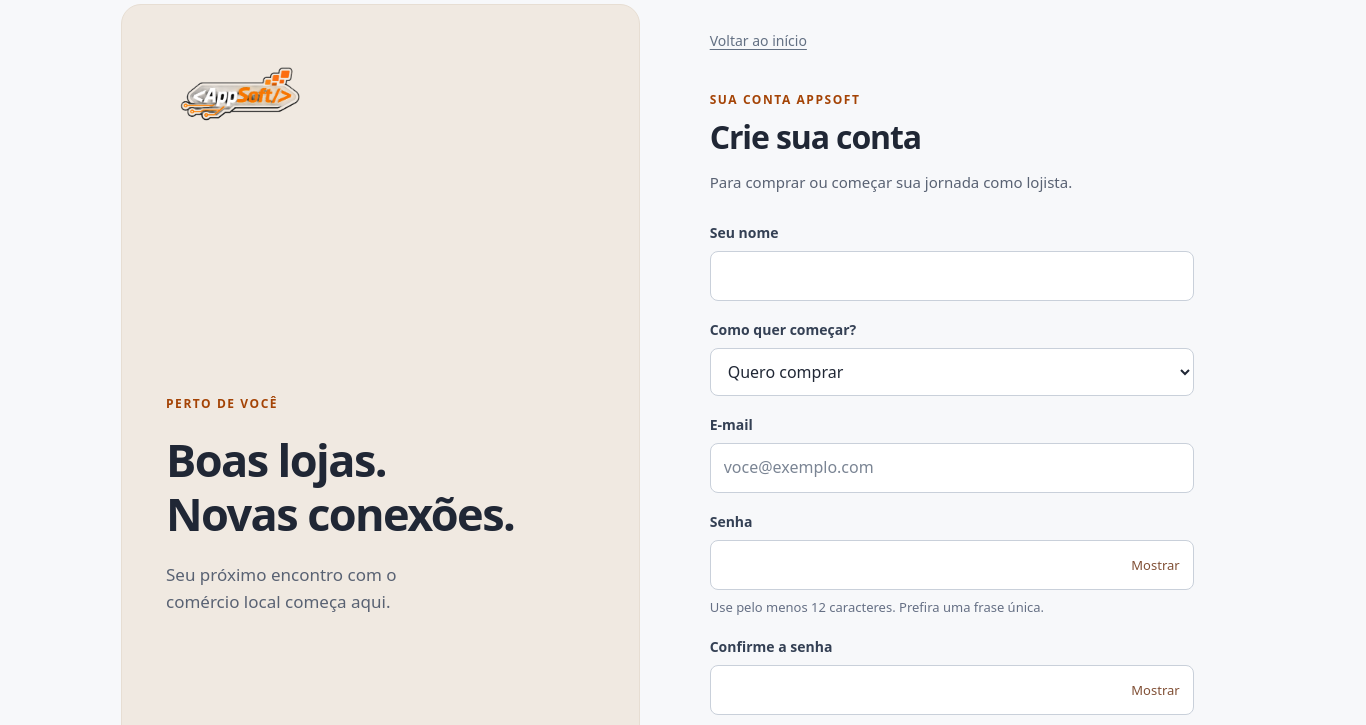
Test case: cadastro e login › cadastra lojista como preferência, sem conceder role de autorização
The image size is (1366, 725).
In the field labelled "Seu nome": (952, 276) [710,251,1194,301], type "Ana"
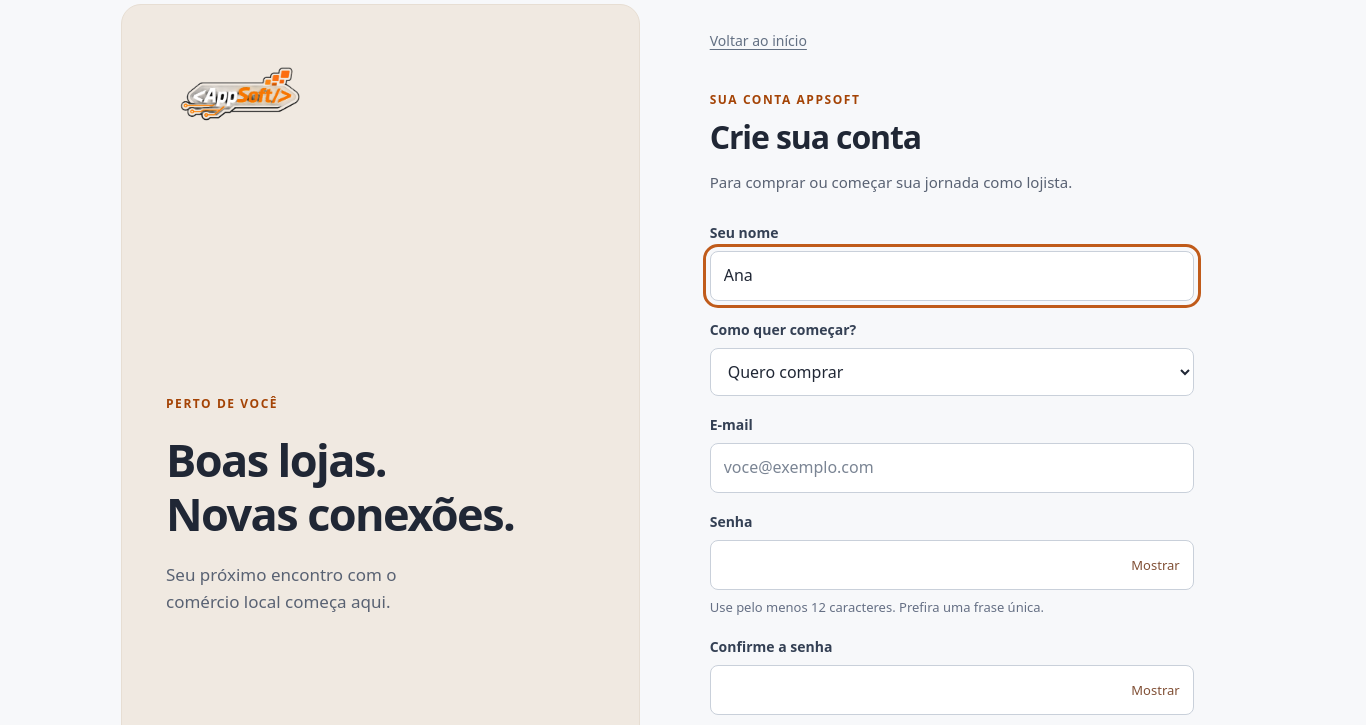
In the field labelled "E-mail": (952, 468) [710,443,1194,493], type "ana@example.test"
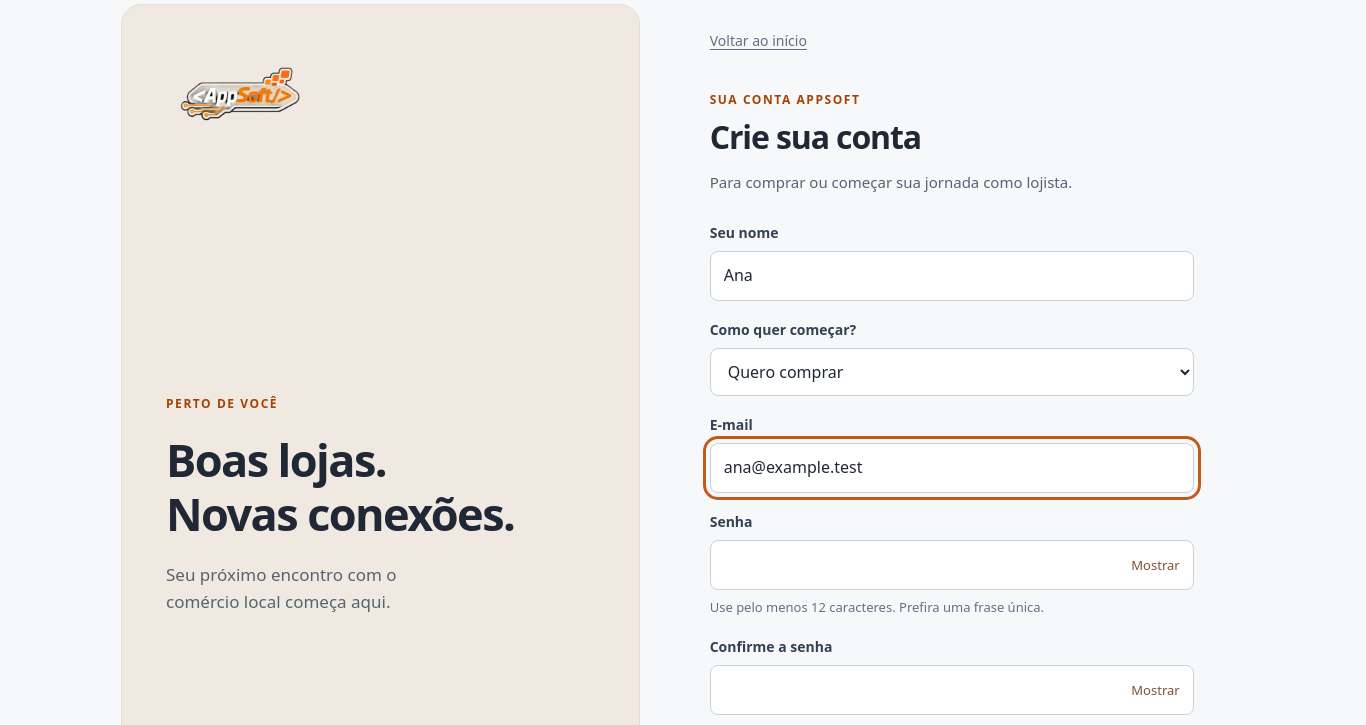
Select "Quero vender" in the dropdown labelled "Como quer começar?": (952, 372) [710,348,1194,396]
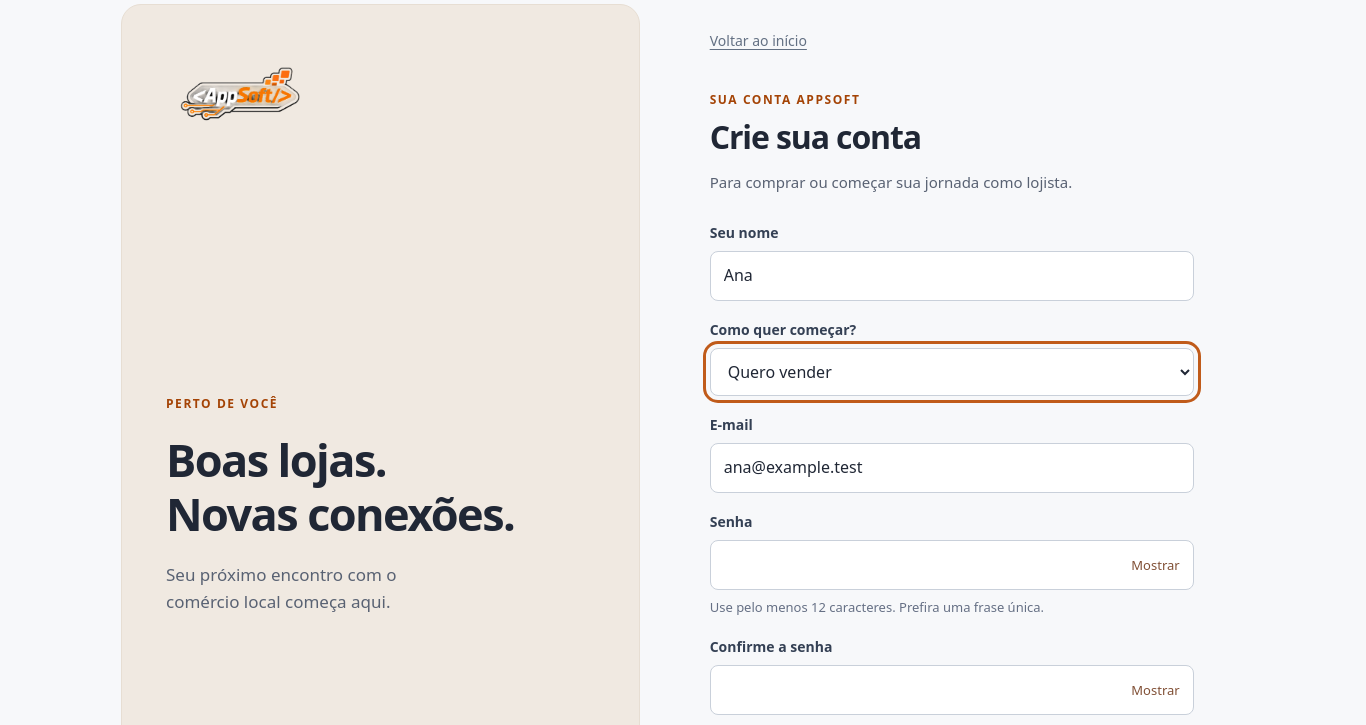
In the password field labelled "Senha": (952, 565) [710,540,1194,590], type "minha-senha-segura"
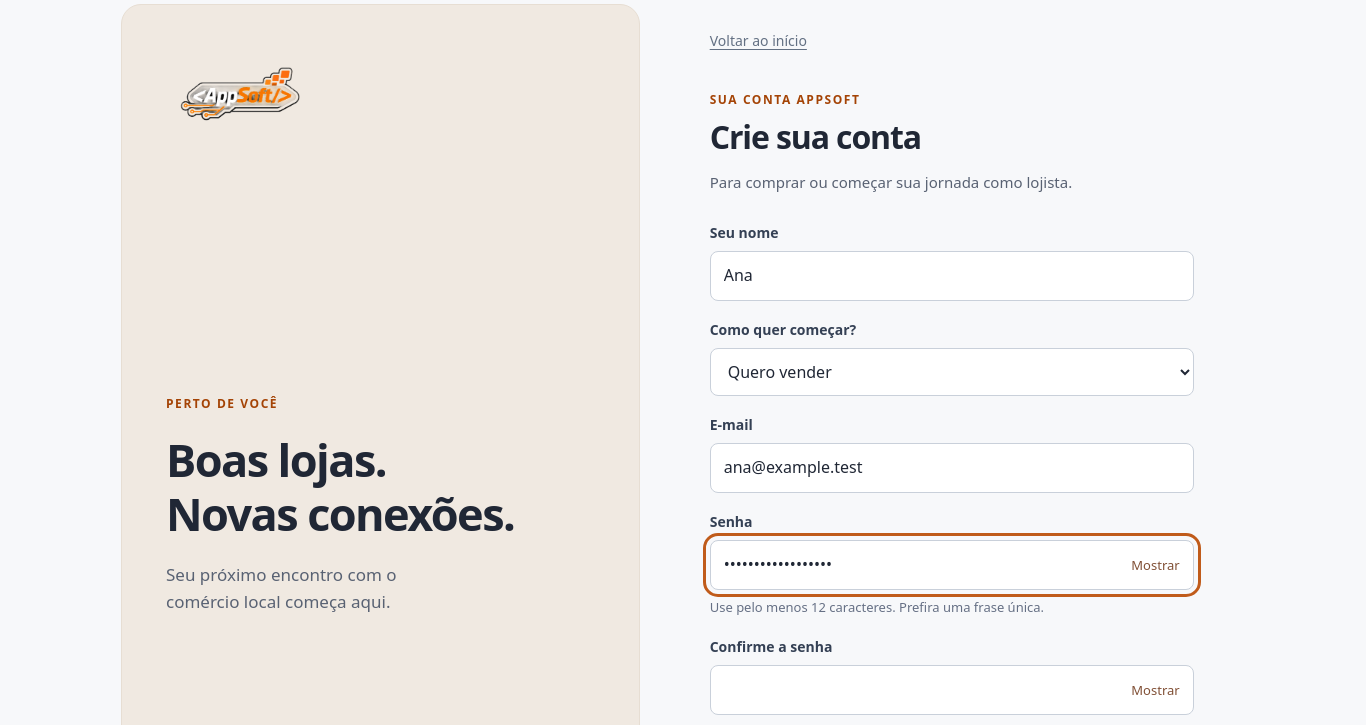
In the password field labelled "Confirme a senha": (952, 690) [710,665,1194,715], type "minha-senha-segura"
(page scrolled)
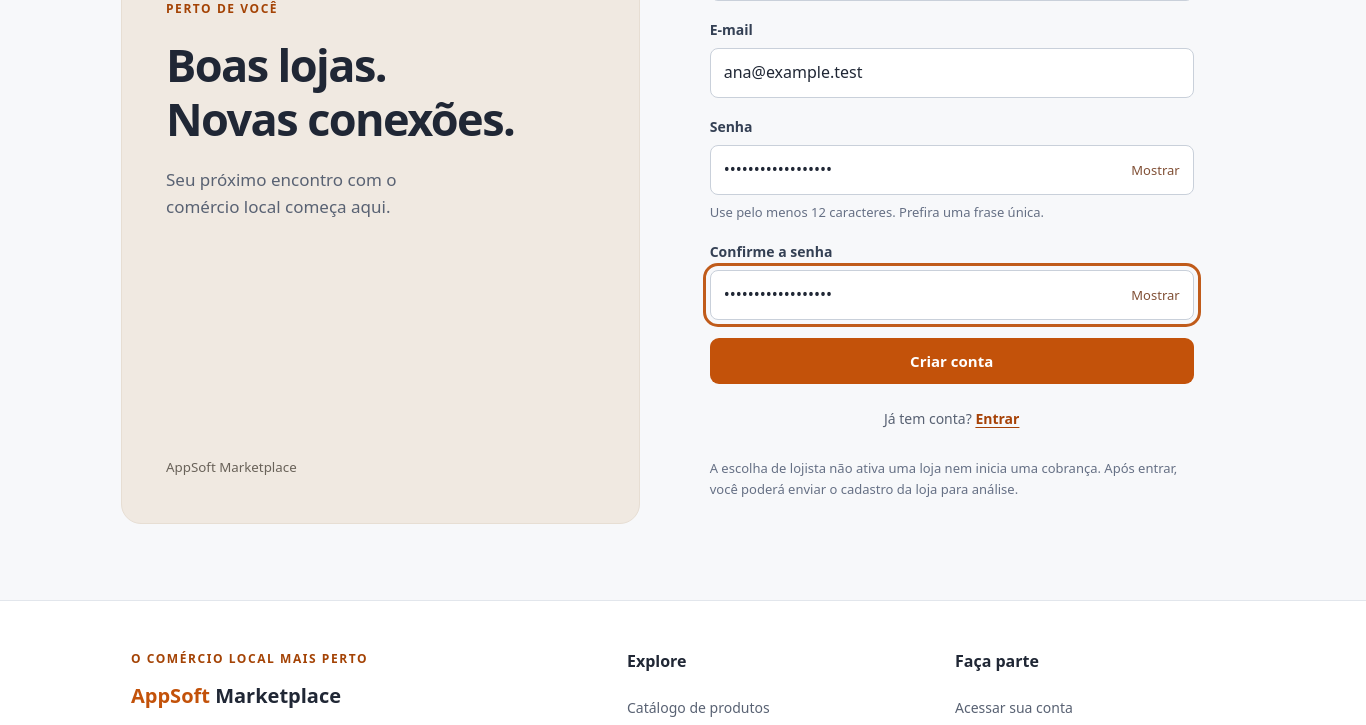
Click the button "Criar conta": click(952, 361) [710,338,1194,384]
(page scrolled)
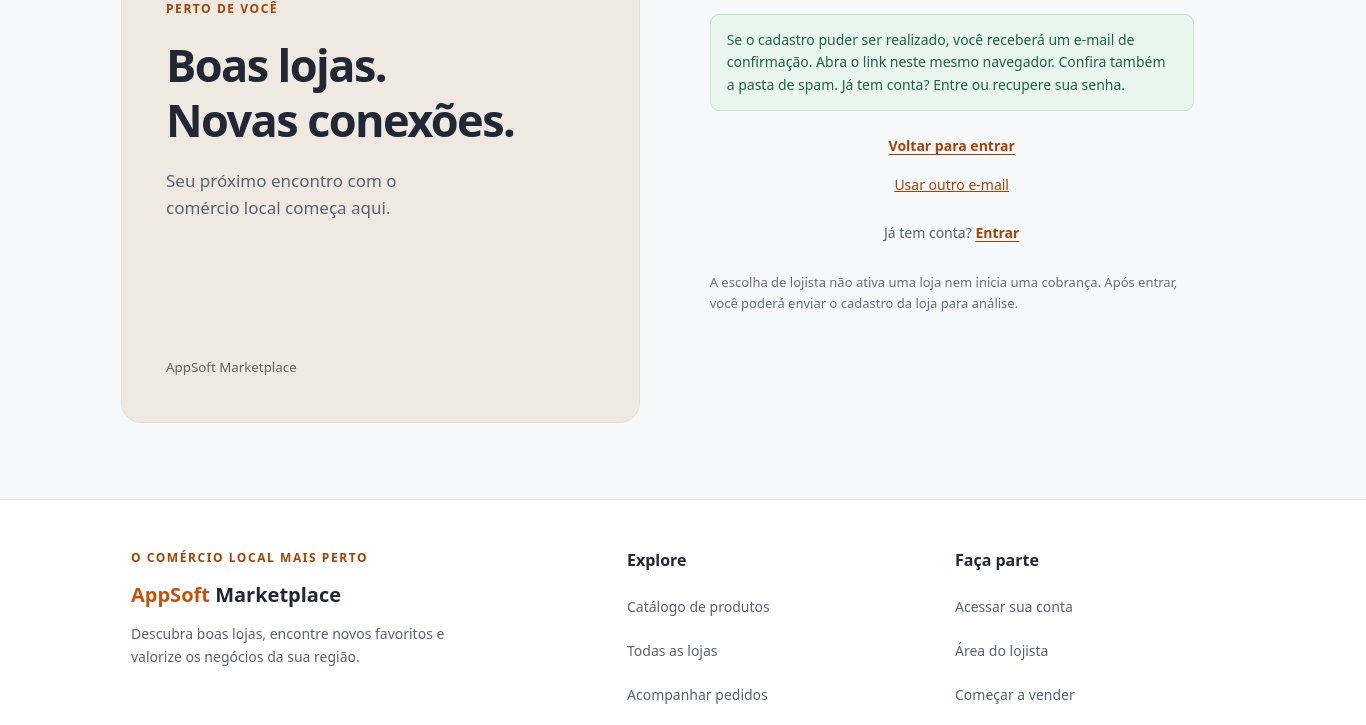
Now the message shows "e-mail de confirmação", box [727,30,1166,94]
